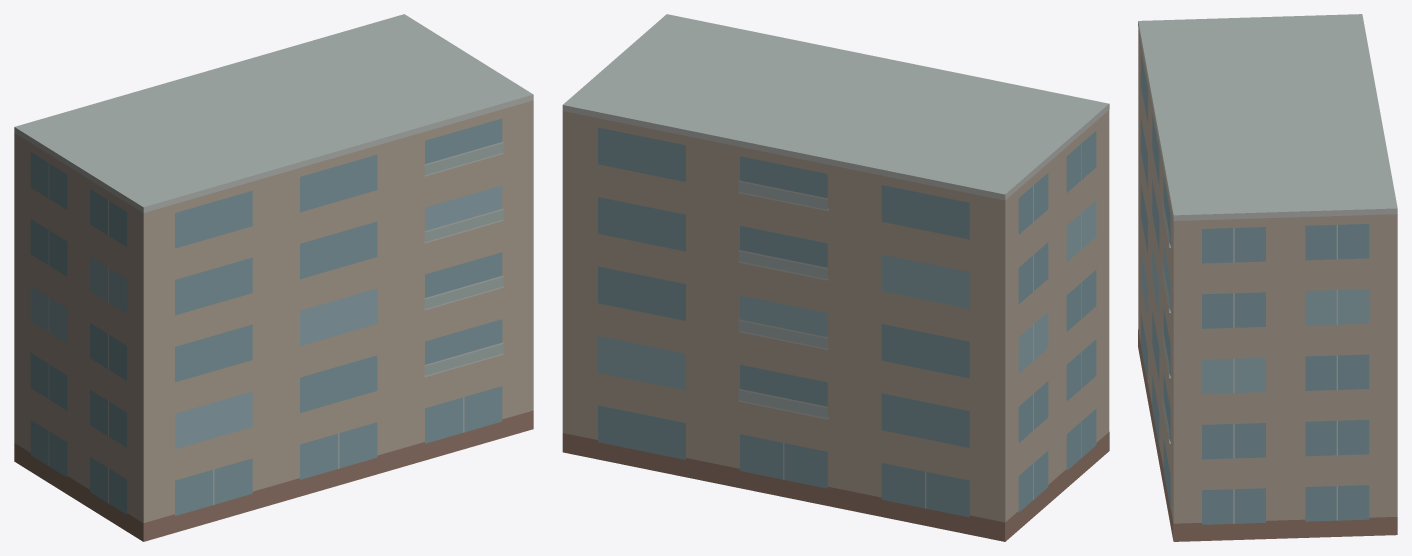
Rendered from survey-upis-32757715.glb.
The picture shows the model from 3 angles, left to right: view 1: azimuth 30°, elevation 25°; view 2: azimuth 150°, elevation 25°; view 3: azimuth 270°, elevation 25°; orthographic projection. The views are drawn at different scales.
Visible parts, largest first — view 1: survey-upis-32757715.tmp; view 2: survey-upis-32757715.tmp; view 3: survey-upis-32757715.tmp.
Boxes of the visible parts, bbox=[...] form: survey-upis-32757715.tmp: bbox=[14, 14, 533, 541]; survey-upis-32757715.tmp: bbox=[562, 14, 1109, 541]; survey-upis-32757715.tmp: bbox=[1138, 14, 1397, 541].
Size of the model in its own units: 18.65 by 14.1 by 10.17.
